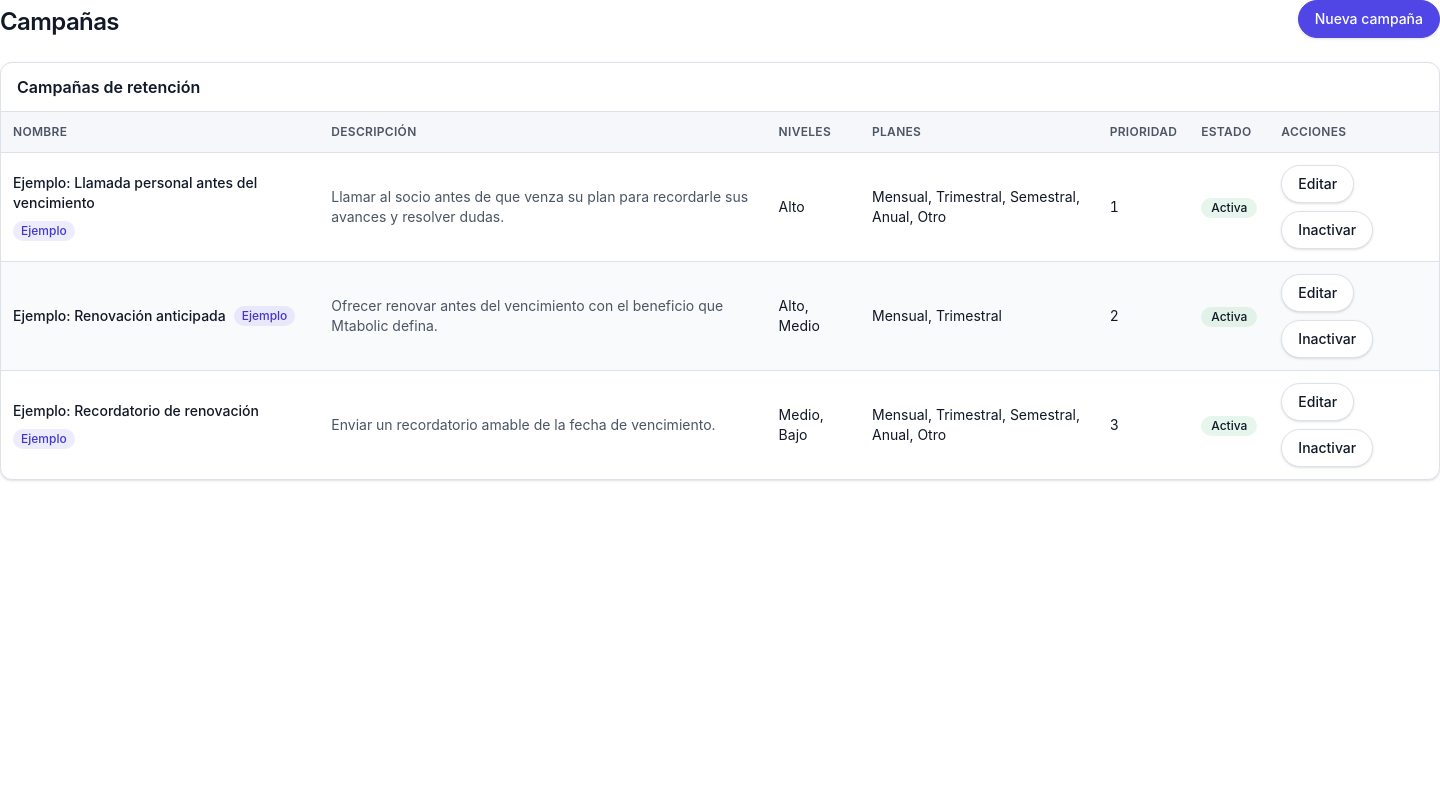
Test case: CampaniasPage › alta válida → envía el POST y la campaña aparece en la tabla
The width and height of the screenshot is (1440, 810).
Click the button "Nueva campaña": coordinates (1369, 19) left=1298, top=0, right=1439, bottom=38
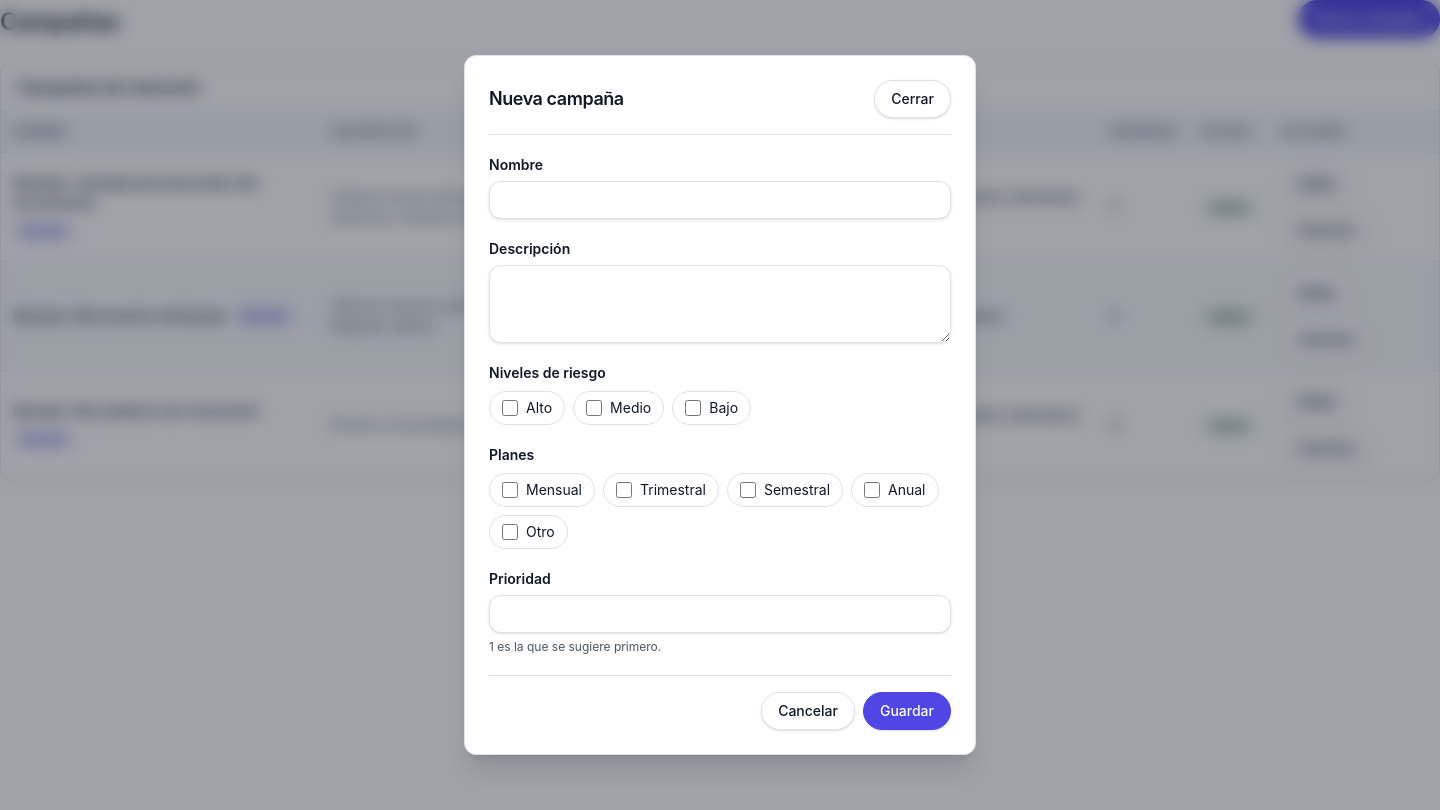
In the field labelled "Nombre": coordinates (720, 200) left=489, top=181, right=951, bottom=219, type "  Clase de regalo  "
In the text box labelled "Descripción": coordinates (720, 304) left=489, top=265, right=951, bottom=343, type "Una clase al renovar."
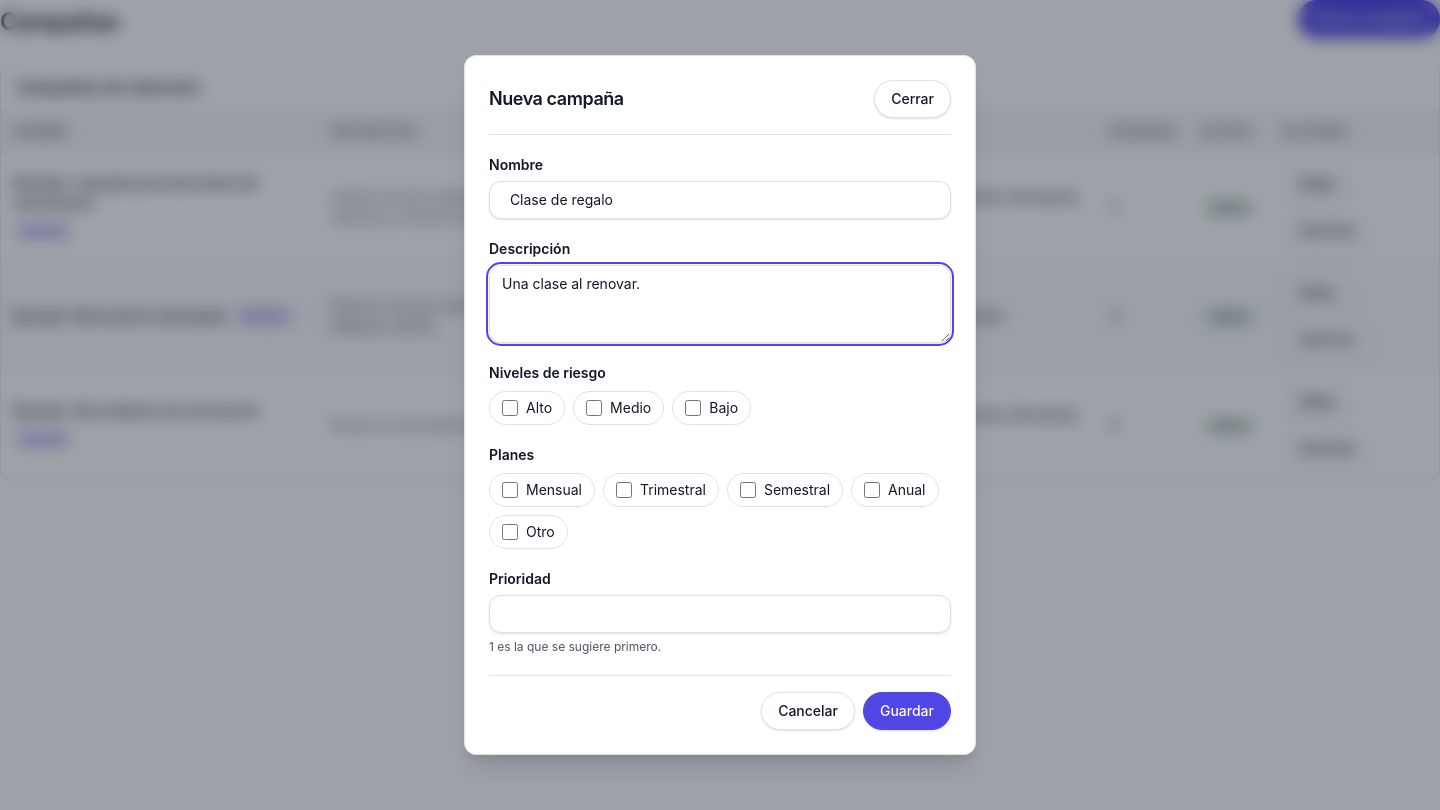
Click the checkbox labelled "Bajo": coordinates (693, 408) left=685, top=400, right=701, bottom=416
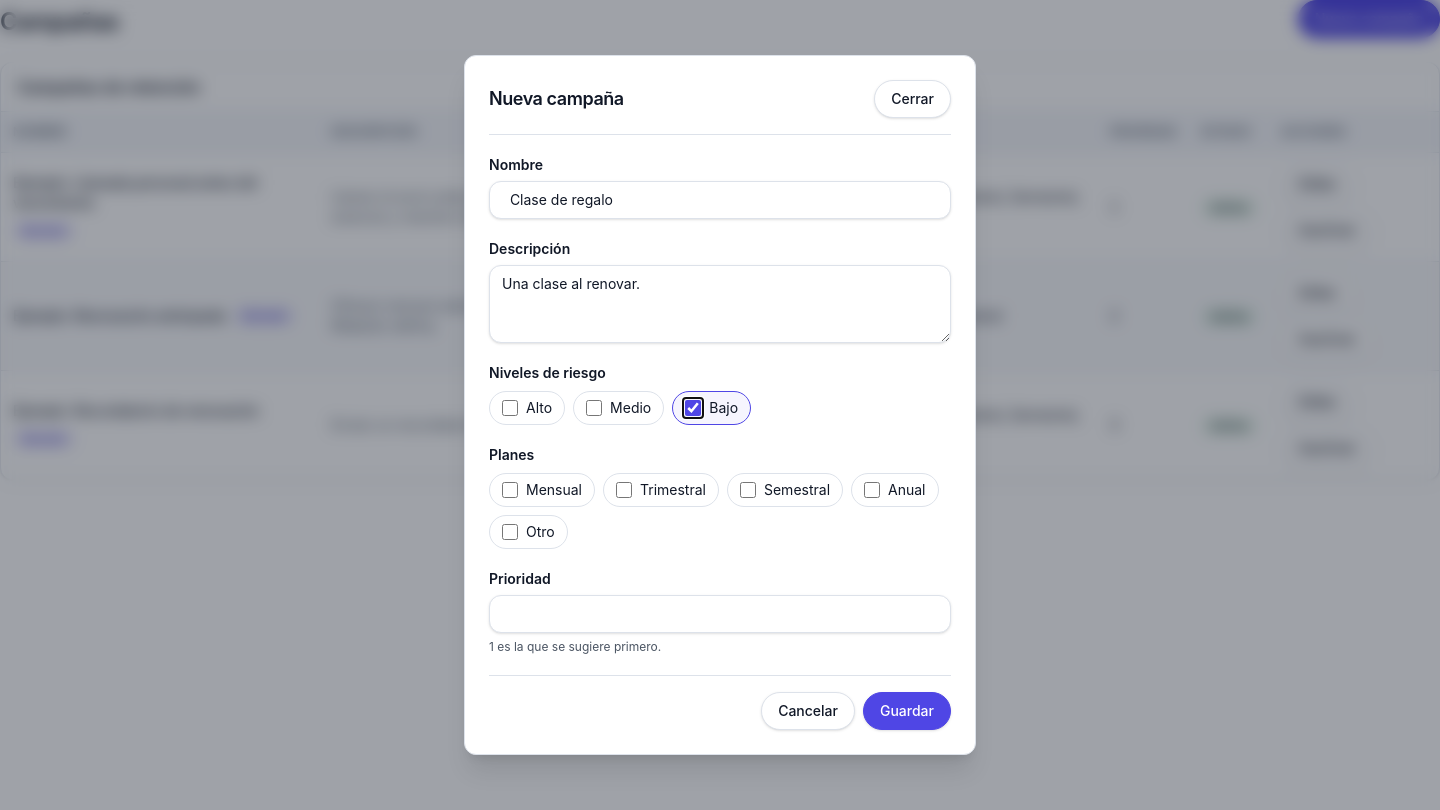
Click the checkbox labelled "Alto": coordinates (510, 408) left=502, top=400, right=518, bottom=416
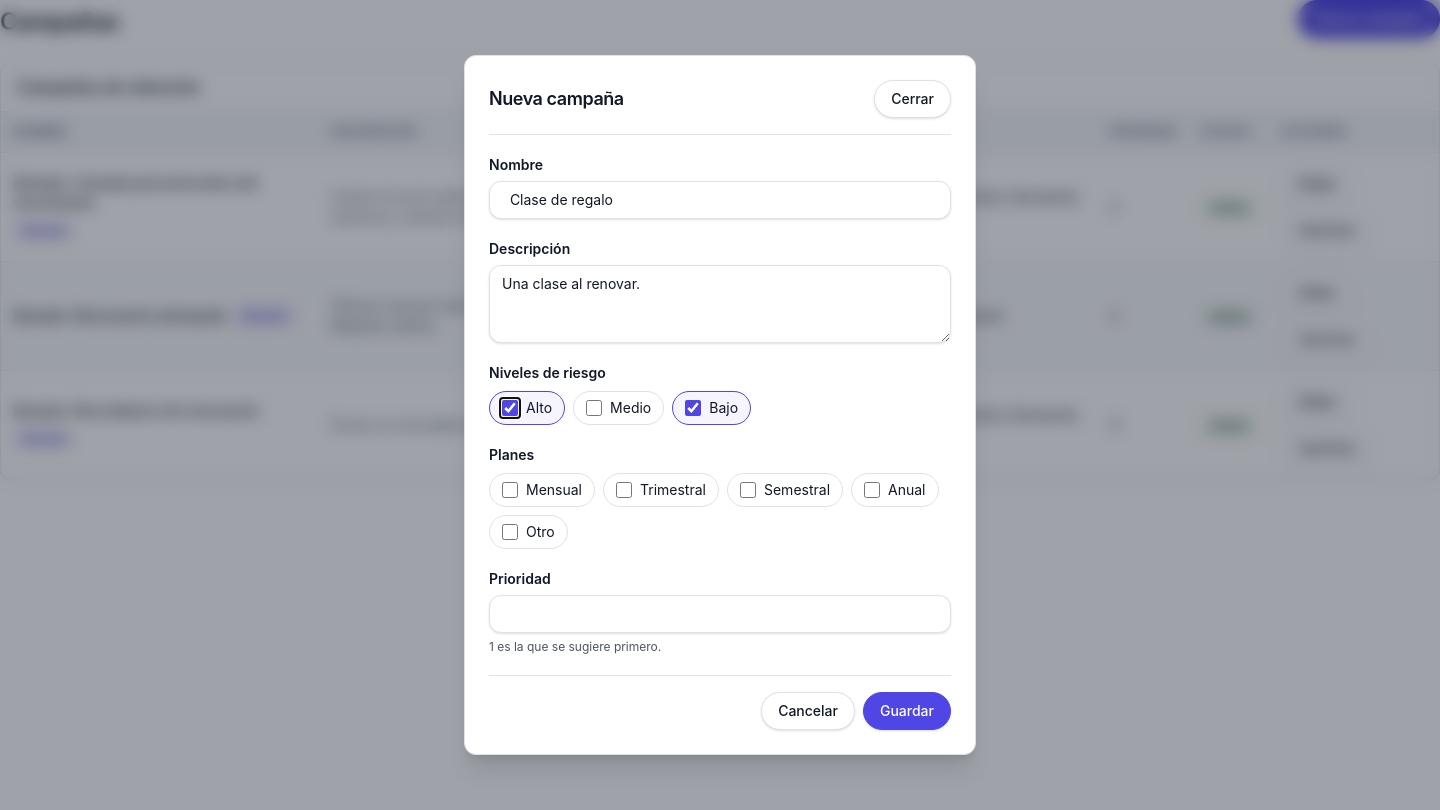
Click the checkbox labelled "Anual": coordinates (872, 490) left=864, top=482, right=880, bottom=498
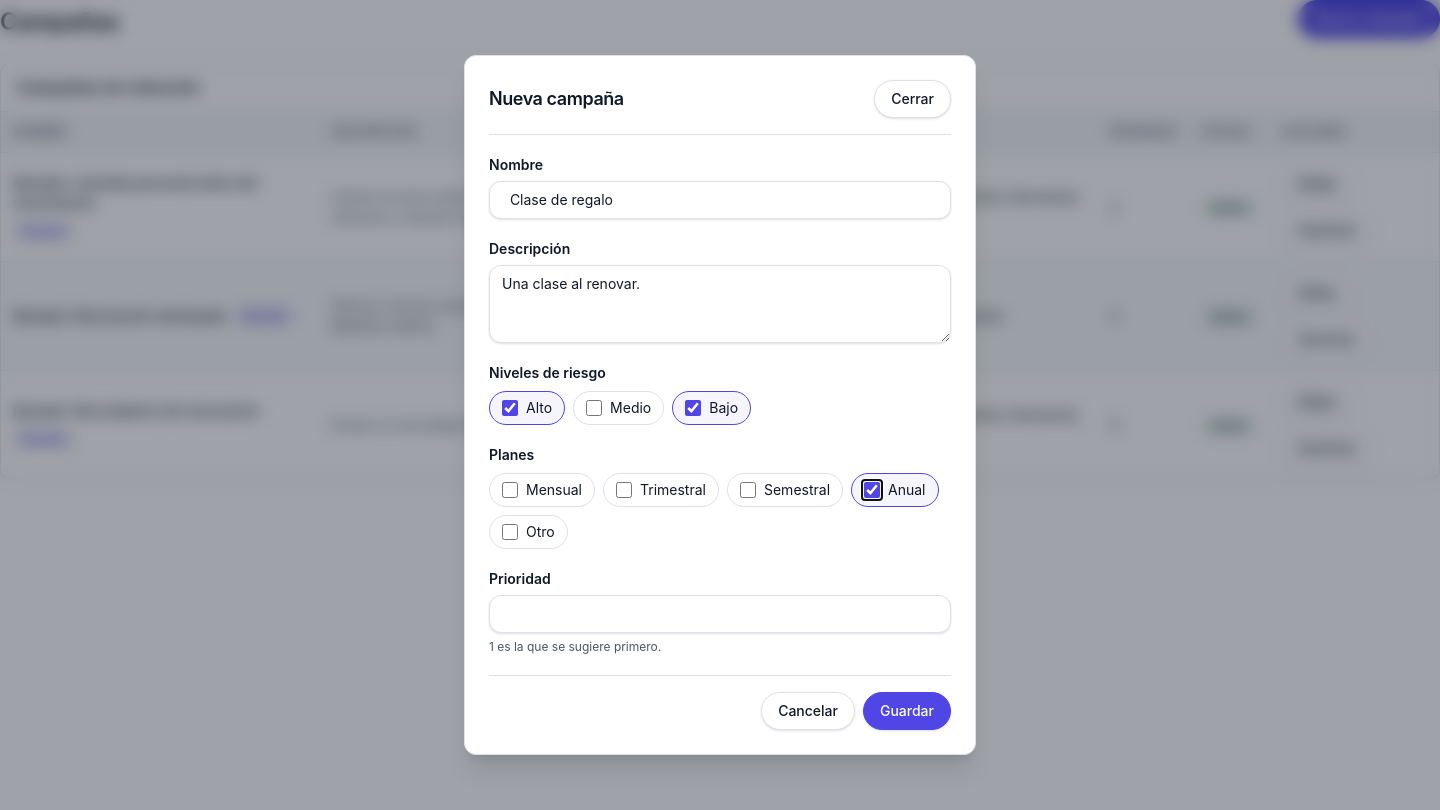
In the number field labelled "Prioridad": coordinates (720, 614) left=489, top=595, right=951, bottom=633, type "4"
Click the button "Guardar": coordinates (907, 711) left=863, top=692, right=951, bottom=730
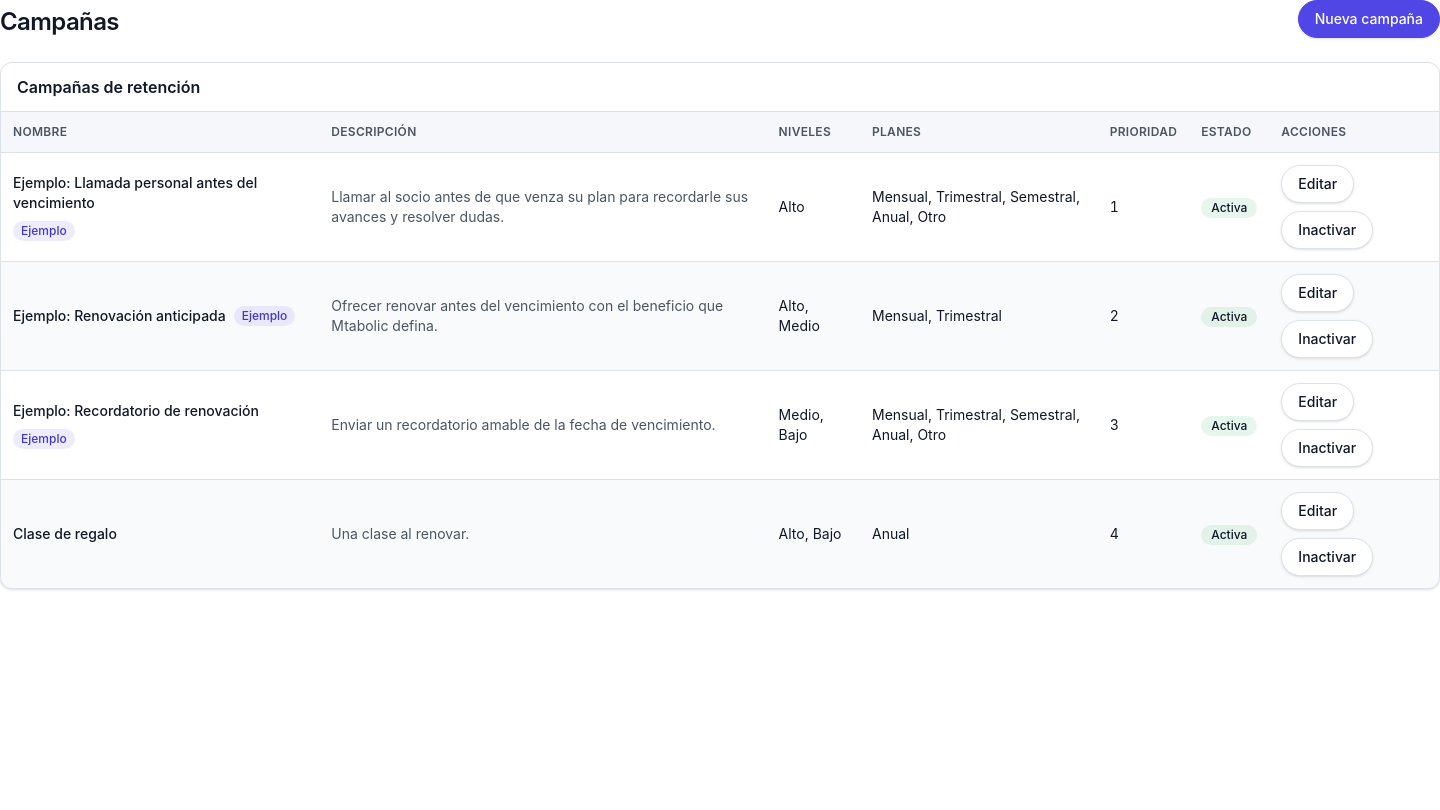
Expected: the dialog is gone
Expected: the text "Alto, Bajo" is shown, left=767, top=480, right=860, bottom=588
